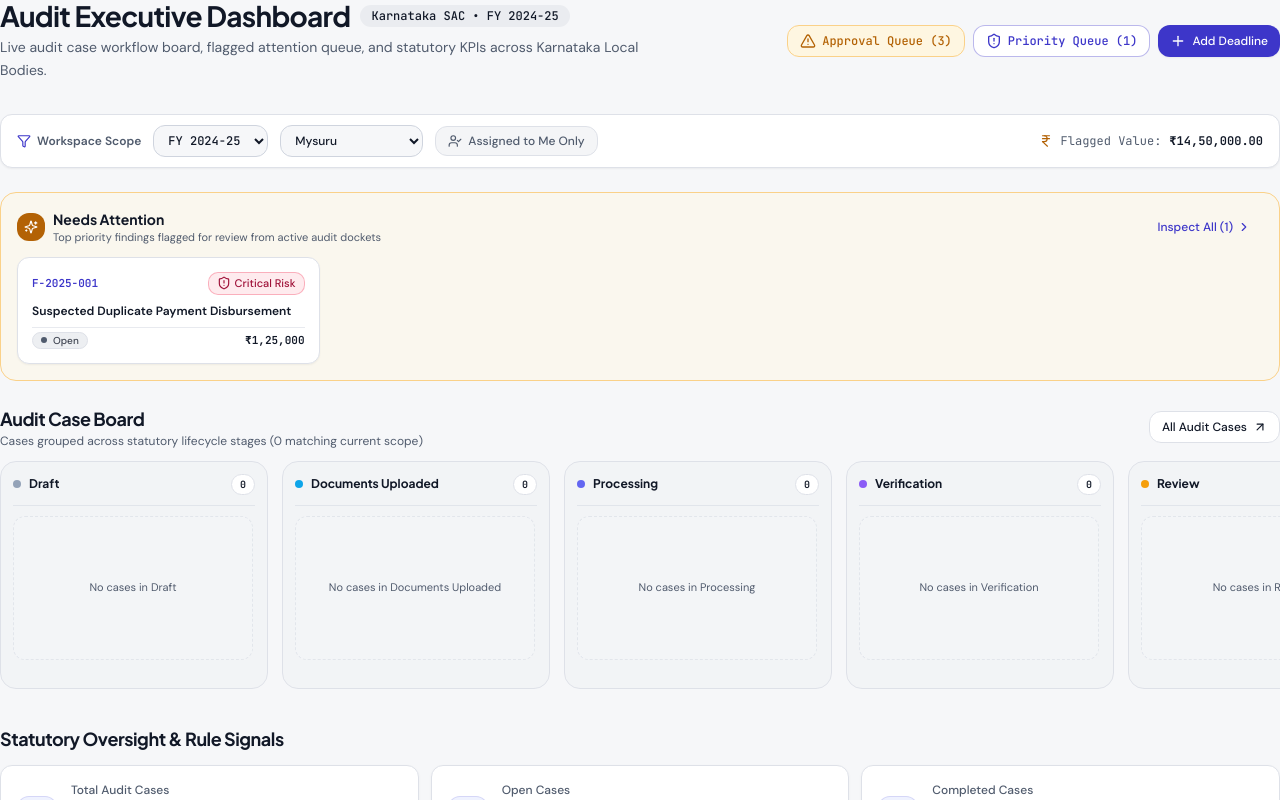
Scenario: Phase 5 Dashboard & Analytics Vitest Suite › renders Dashboard live KPIs, updates filters, and opens priority review queue
Expected: the text "Total Audit Cases" is shown, [71,782,169,798]
Expected: the text "Priority Queue (1)" is shown, [1008,33,1137,49]
What coordinates should you click on to do the following:
click the button "Priority Queue (1)"
I would click on:
 (1062, 41)
Its box is [973,25,1150,57].
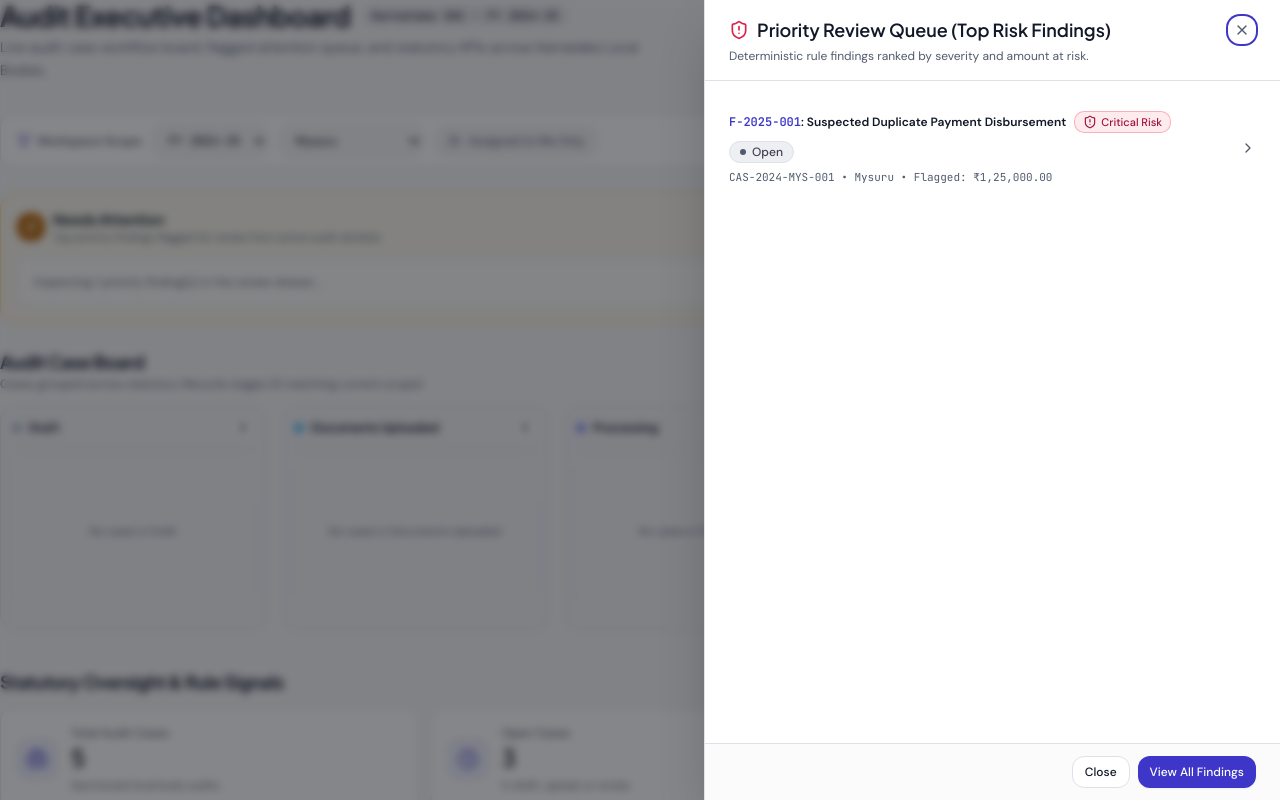
Expected: the text "F-2025-001" is shown, [729,114,801,130]
Result: the text "F-2025-001: Suspected Duplicate Payment Disbursement" is shown at [729,114,1066,130]
